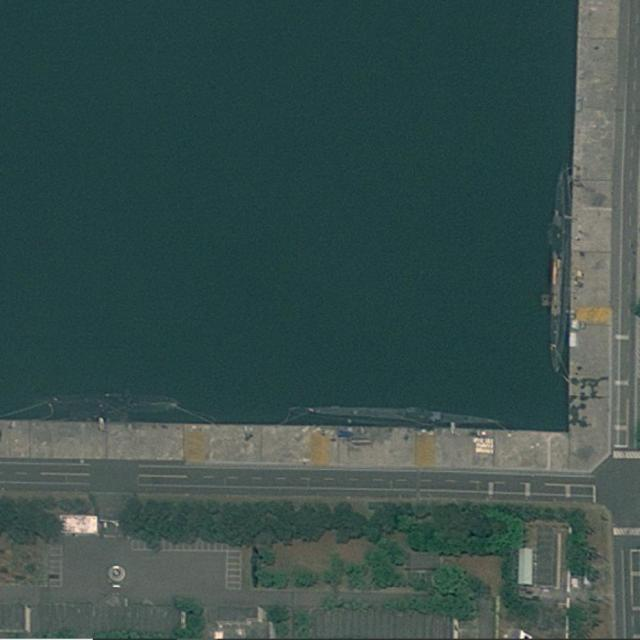Submarine: (286, 399, 500, 428), (548, 162, 573, 372), (45, 396, 175, 413)
